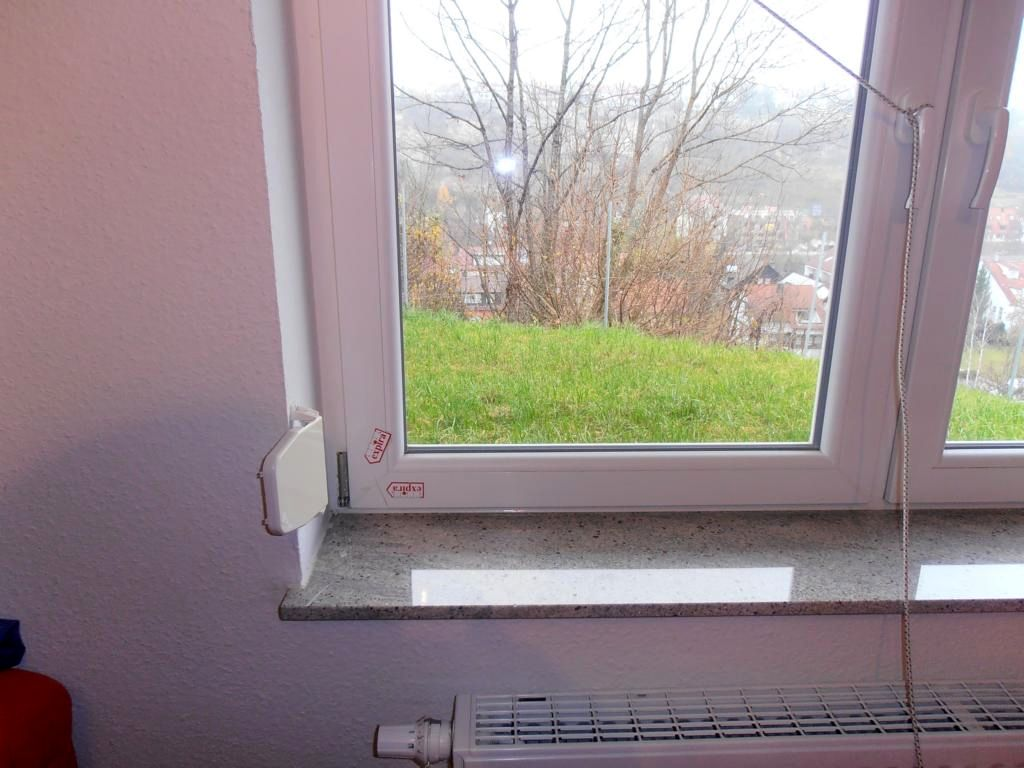windows: (310, 5, 900, 553)
